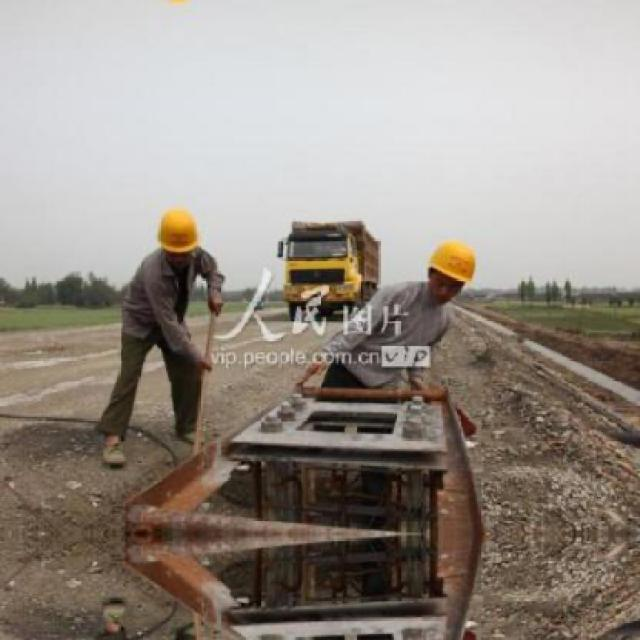helmet: (422, 229, 482, 306), (152, 200, 202, 269)
